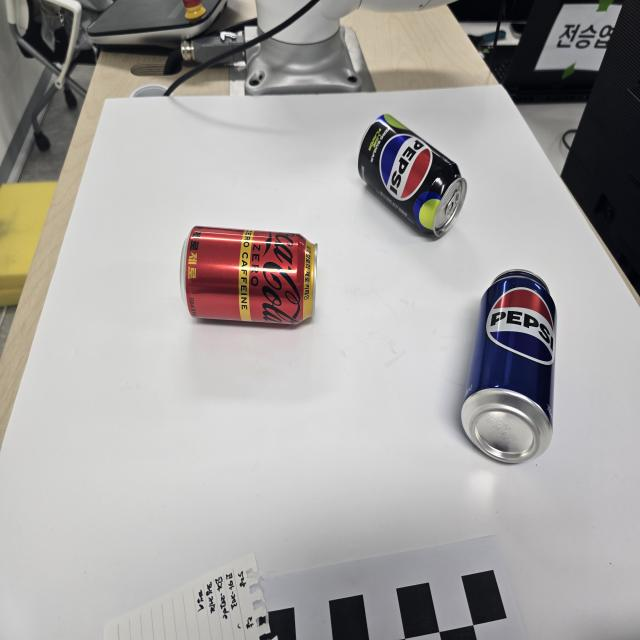can_coke_decaf: (178, 225, 317, 323)
can_pepsi: (461, 267, 558, 462)
can_pepsi_zero: (357, 111, 468, 240)
